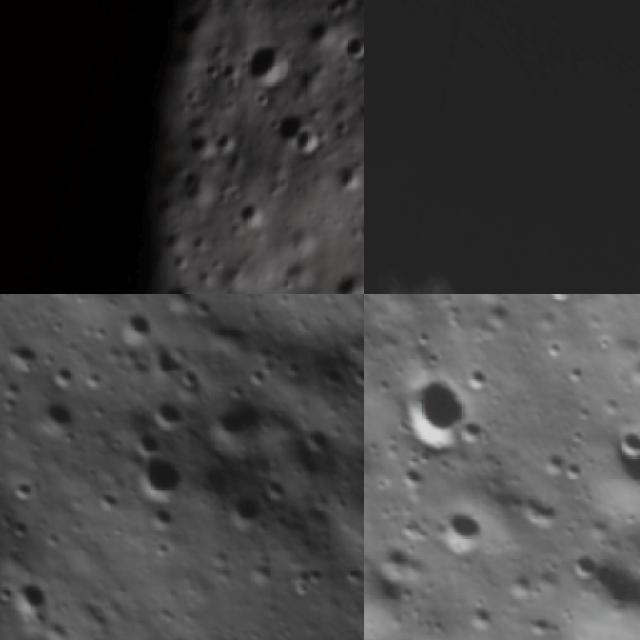crater: (384, 362, 490, 466), (429, 500, 498, 570), (123, 438, 192, 507), (237, 31, 299, 93), (213, 484, 268, 539), (30, 392, 80, 443), (140, 388, 190, 439), (0, 330, 48, 379), (266, 102, 312, 151), (110, 304, 159, 350), (12, 569, 57, 618), (288, 118, 335, 164), (137, 495, 182, 540), (296, 7, 340, 52), (605, 418, 640, 471), (4, 467, 46, 509), (229, 194, 269, 236), (40, 358, 82, 397), (127, 421, 166, 462), (144, 342, 184, 381), (328, 154, 364, 193), (171, 360, 207, 398), (89, 483, 124, 520), (299, 415, 334, 452), (337, 27, 364, 67), (535, 294, 587, 313), (331, 266, 364, 294), (348, 357, 364, 391), (430, 282, 454, 294)
